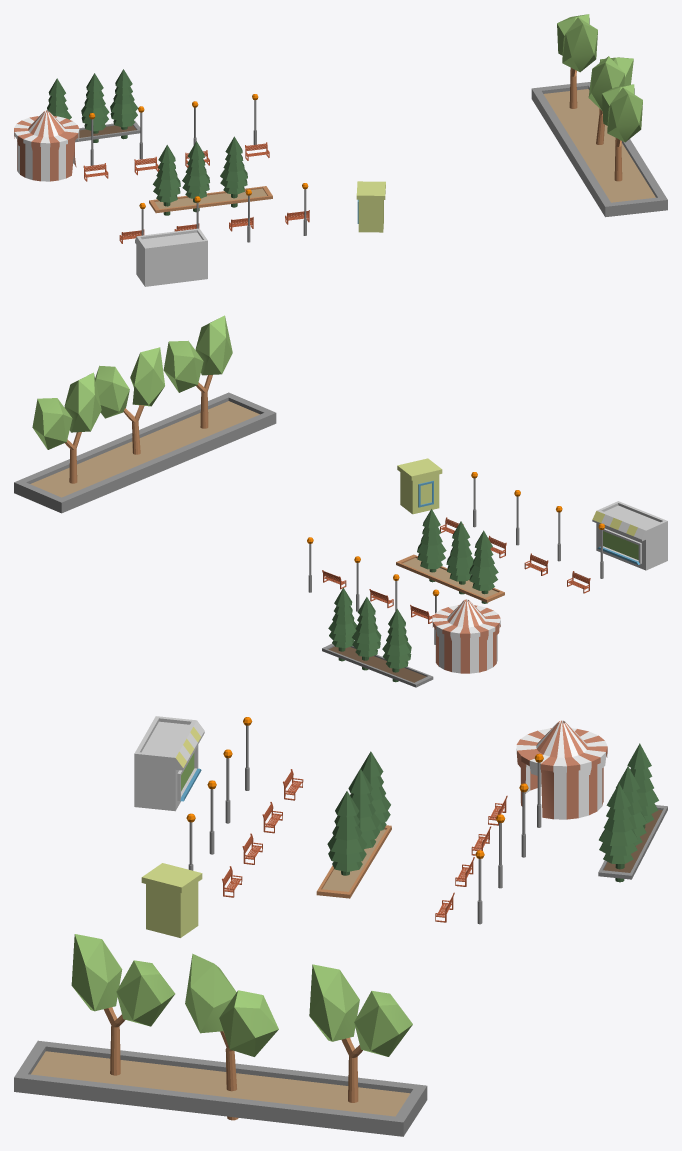
Rendered from nearEnvironmentObjects.obj.
3 renders of one model, top to bottom at view 1: azimuth 30°, elevation 25°; view 2: azimuth 150°, elevation 25°; view 3: azimuth 270°, elevation 25°, orthographic. The views are drawn at different scales.
Parts seen in each view (by area): view 1: baeme1, Объект_Куб.002 (1), Объект_Куб.001, Объект_Куб.003 (1), Объект_Куб.002, Объект_Куб.005; view 2: baeme1, Объект_Куб.002, Объект_Куб.002 (1), Объект_Куб.001, Объект_Куб.003 (1), Объект_Куб.005; view 3: baeme1, Объект_Куб.001, Объект_Куб.002 (1), Объект_Куб.002, Объект_Куб.003 (1), Объект_Куб.005.
Boxes of the visible parts, x1,y1,x2,y2 form: baeme1: (531, 14, 667, 217); Объект_Куб.002 (1): (149, 136, 272, 215); Объект_Куб.001: (14, 110, 79, 181); Объект_Куб.003 (1): (135, 228, 207, 286); Объект_Куб.002: (47, 69, 140, 142); Объект_Куб.005: (356, 181, 385, 232); baeme1: (14, 315, 276, 513); Объект_Куб.002: (322, 588, 433, 687); Объект_Куб.002 (1): (396, 509, 504, 603); Объект_Куб.001: (432, 599, 500, 673); Объект_Куб.003 (1): (592, 501, 667, 570); Объект_Куб.005: (397, 458, 442, 514); baeme1: (14, 934, 427, 1136); Объект_Куб.001: (516, 720, 607, 819); Объект_Куб.002 (1): (316, 751, 391, 898); Объект_Куб.002: (598, 743, 667, 882); Объект_Куб.003 (1): (134, 716, 204, 811); Объект_Куб.005: (141, 863, 202, 937).
Size of the model in its own units: 80.82 by 17.1 by 61.08.
